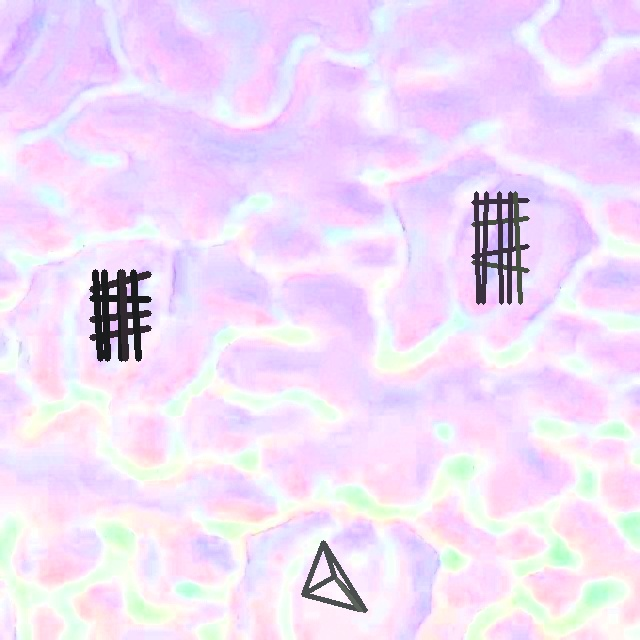close: (301, 540, 367, 611)
open: (471, 191, 529, 304), (89, 269, 151, 360)
